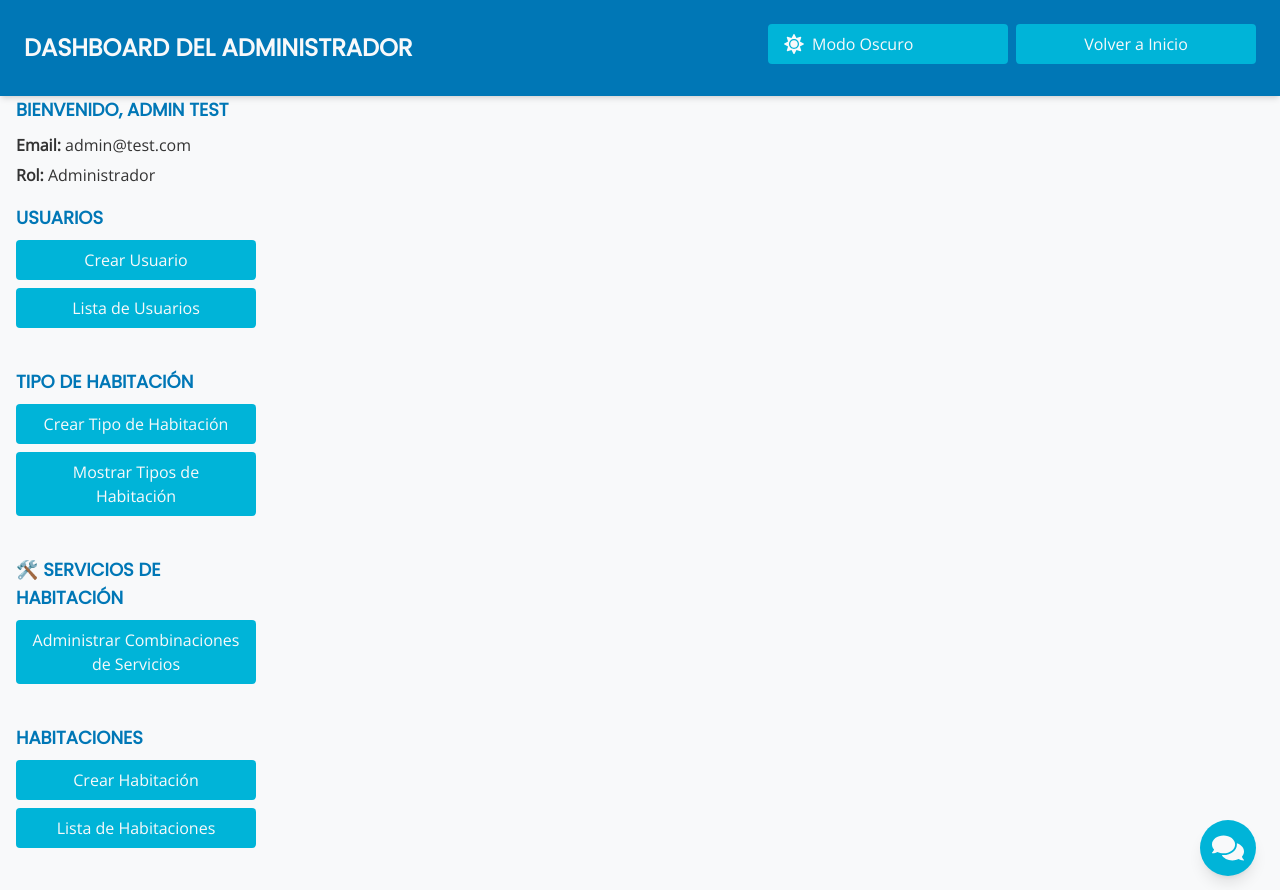
DashboardPage › cambia entre modo claro y modo oscuro
Click the button "Modo Oscuro": click(888, 44) [768,24,1008,64]
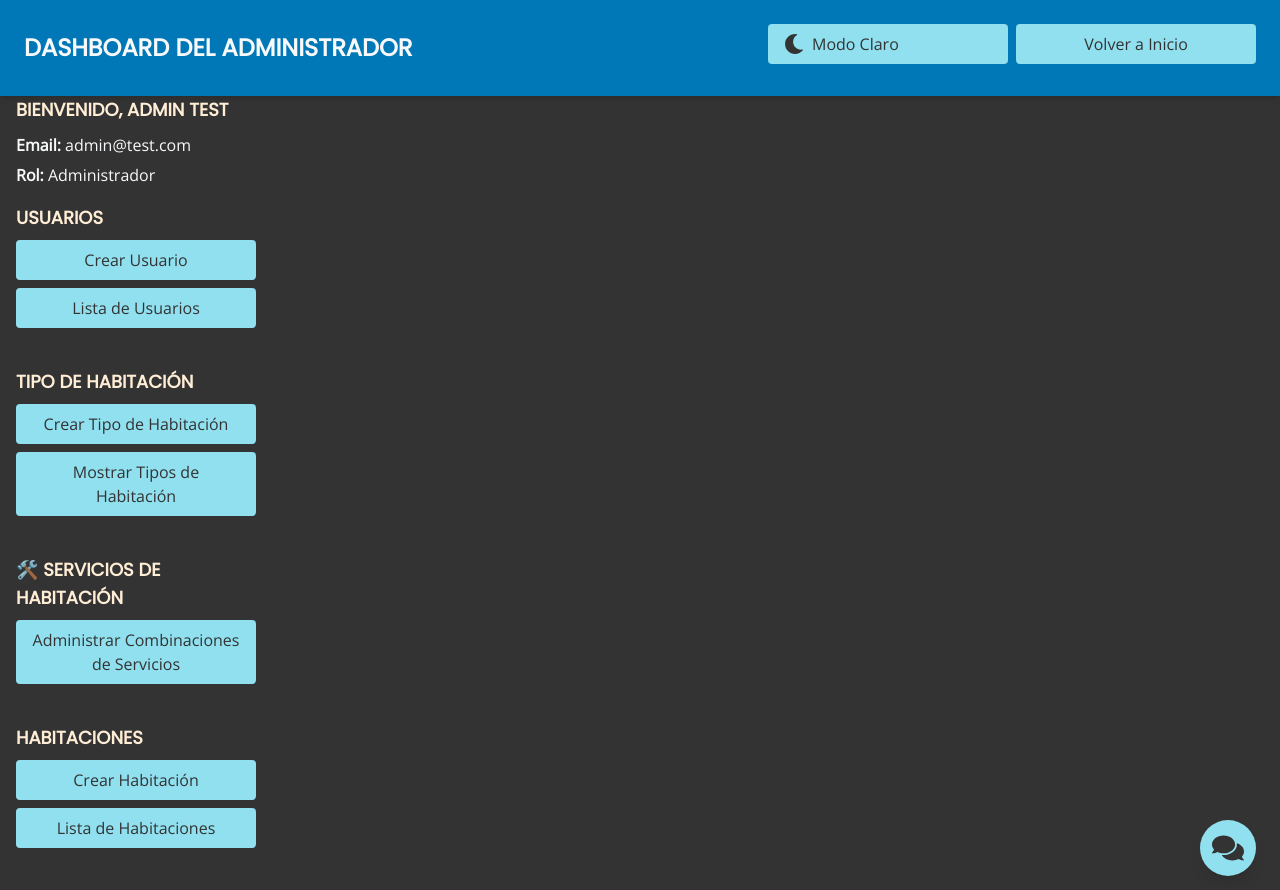
Check: the button "Modo Claro" is shown, box [768,24,1008,64]
